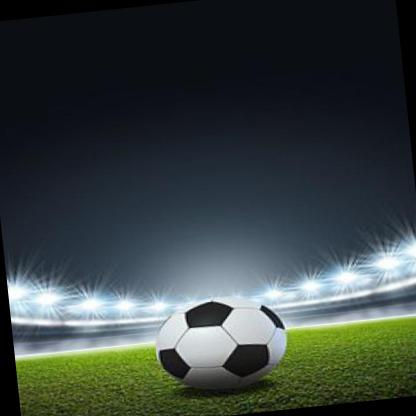ball: (148, 285, 294, 401)
